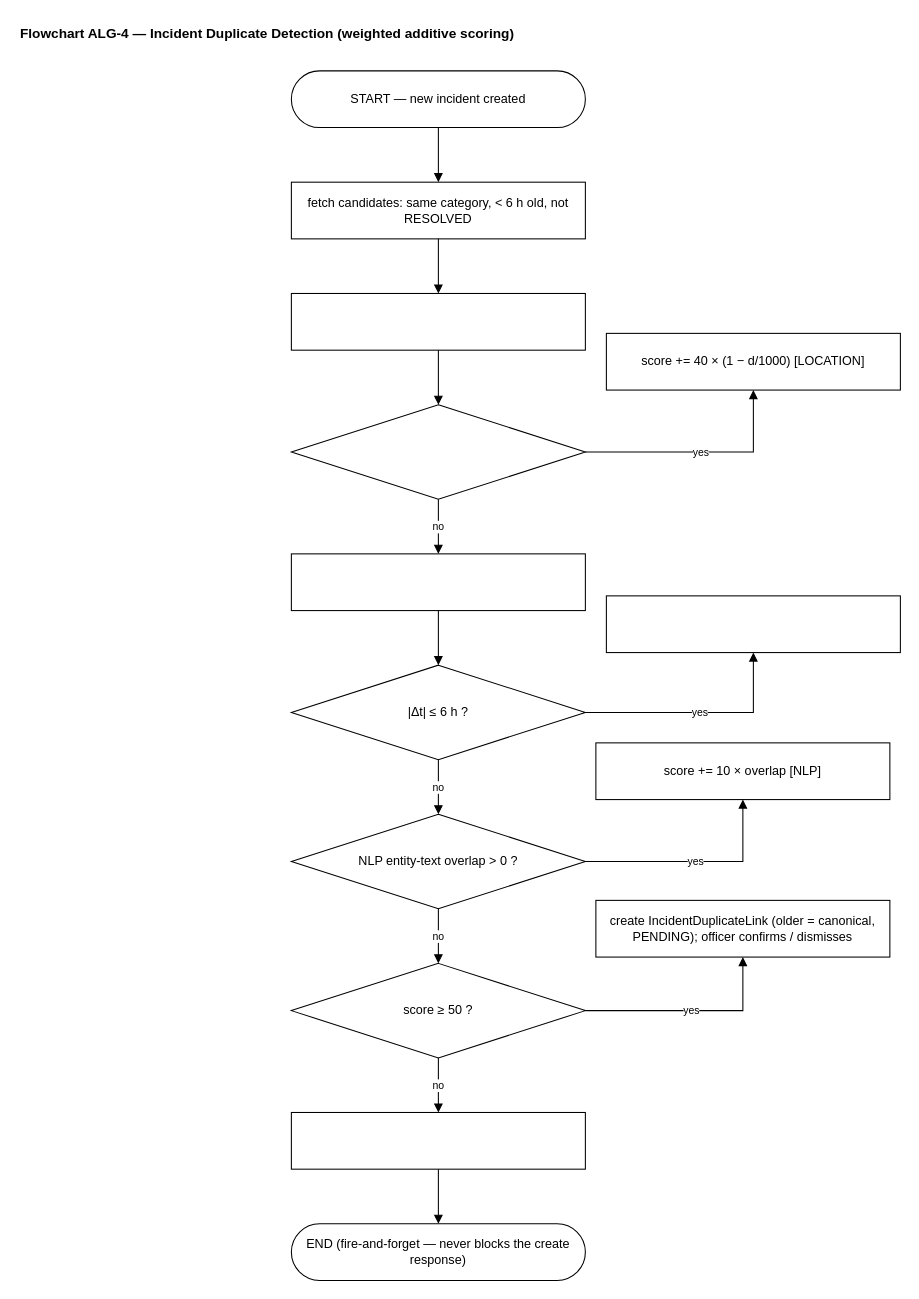
Some shapes in this 919 by 1299 pixel diagram are drawn without their labels. The box of each missing label's shape, as (x1, y1, x2, y2) in pixels:
both have coordinates AND distance ≤ 1000 m ?: (290, 404, 585, 499)
for each candidate: score = 0: (290, 292, 585, 350)
next candidate: (290, 1111, 585, 1169)
score += 20 × (1 − Δt/6h) [TIME]: (605, 595, 900, 653)
score += 30 [CATEGORY — always, candidates already filtered]: (290, 553, 585, 611)
